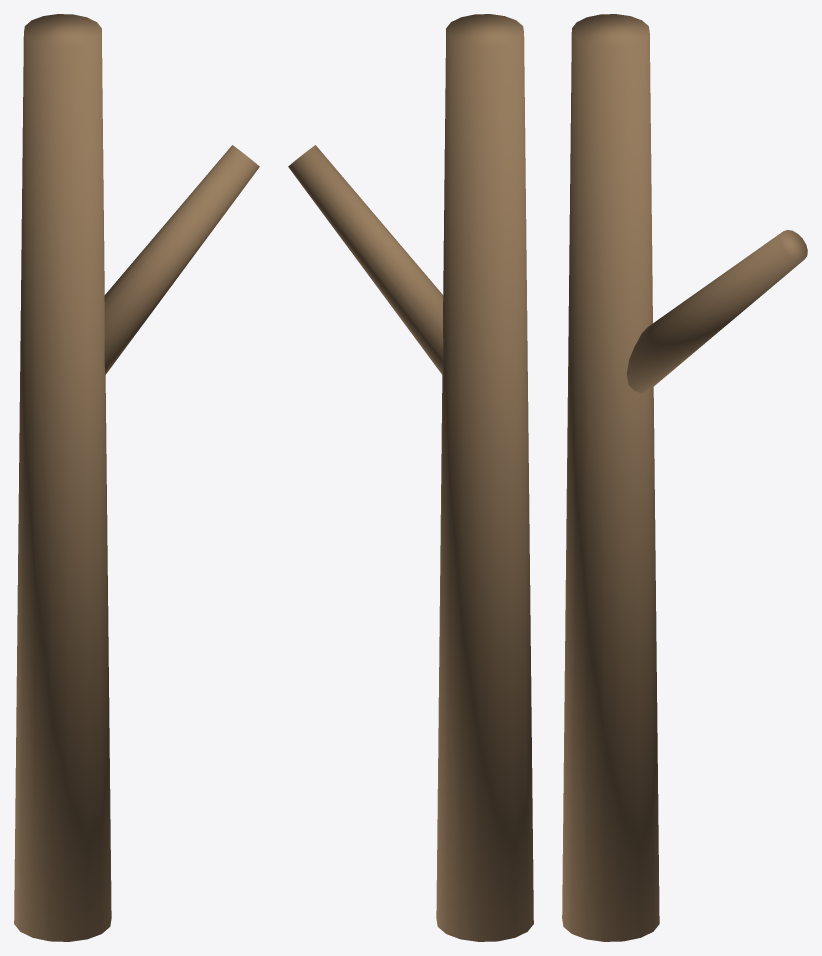
The model's file is stick.glb.
3 views of the same model, side by side, from view 1: azimuth 30°, elevation 25°; view 2: azimuth 150°, elevation 25°; view 3: azimuth 330°, elevation 25° (orthographic).
Visible parts, largest first — view 1: stick; view 2: stick; view 3: stick.
Boxes of the visible parts, left/top/right/bottom form: stick: left=14, top=14, right=259, bottom=941; stick: left=288, top=14, right=533, bottom=941; stick: left=562, top=14, right=807, bottom=941.
Size of the model in its own units: 0.2777 by 1 by 0.1.
